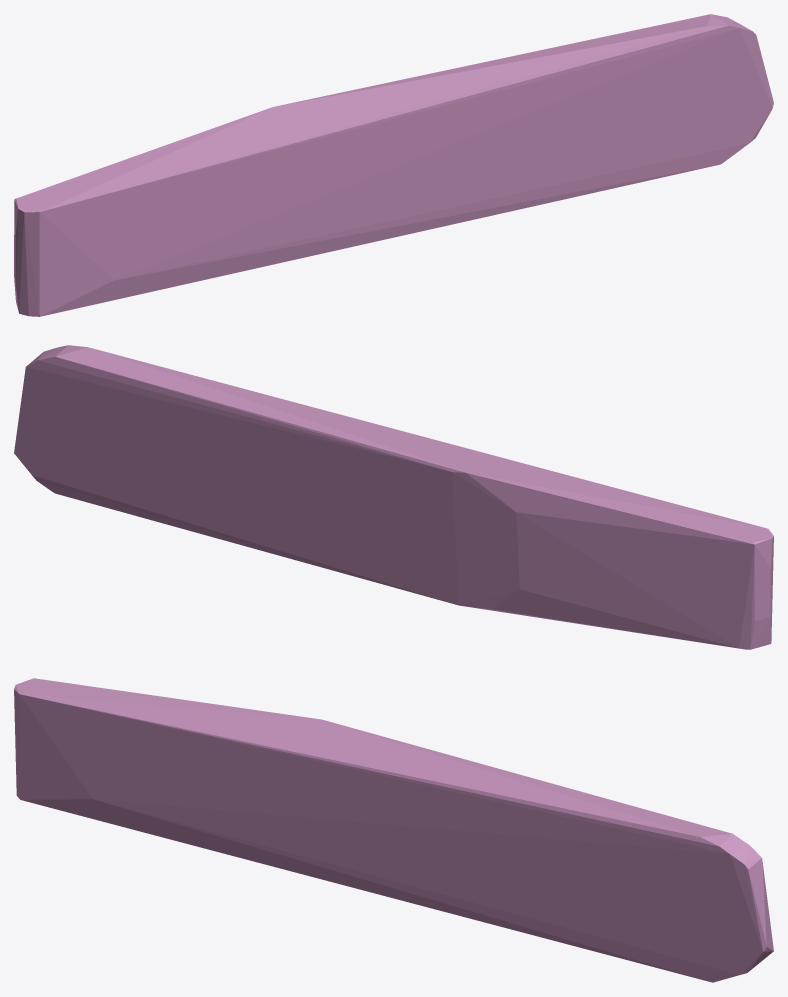
File: handTool_wrench_9_16in_b01.glb
3 renders of one model, top to bottom at view 1: azimuth 30°, elevation 25°; view 2: azimuth 150°, elevation 25°; view 3: azimuth 330°, elevation 25°, orthographic.
Visible parts, largest first — view 1: geometry_0; view 2: geometry_0; view 3: geometry_0.
Part boxes in pixels (x1=…): geometry_0: x1=14, y1=14, x2=773, y2=316; geometry_0: x1=14, y1=345, x2=773, y2=649; geometry_0: x1=14, y1=678, x2=773, y2=982.
Size of the model in its own units: 0.48 by 0.0865 by 0.0385.
